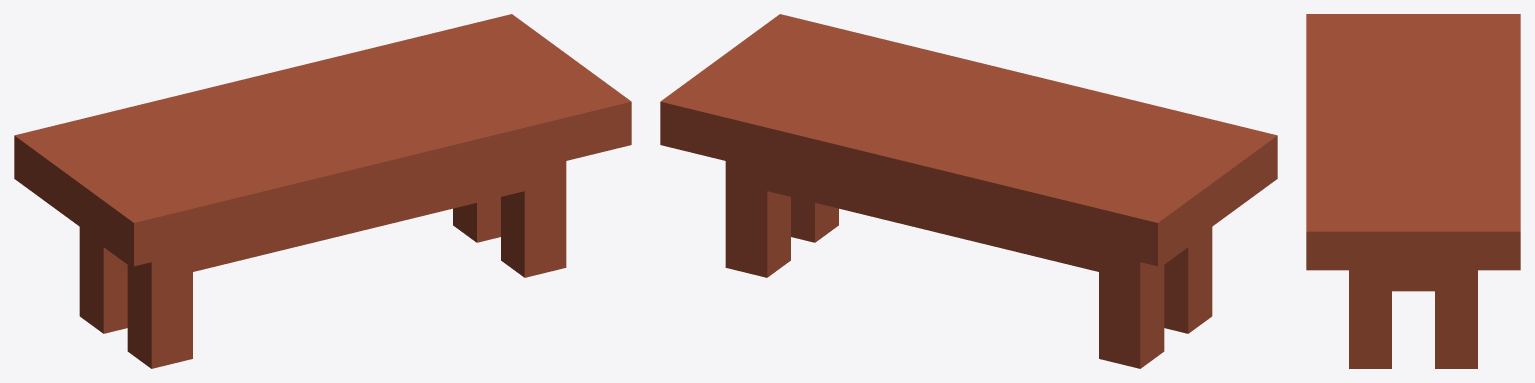
File: large_bench_a.obj
3 views of the same model, side by side, from view 1: azimuth 30°, elevation 25°; view 2: azimuth 150°, elevation 25°; view 3: azimuth 270°, elevation 25° (orthographic). The views are drawn at different scales.
Size of the model in its own units: 1.2 by 0.4 by 0.5.
Materials: 1 (1 with a texture image).
